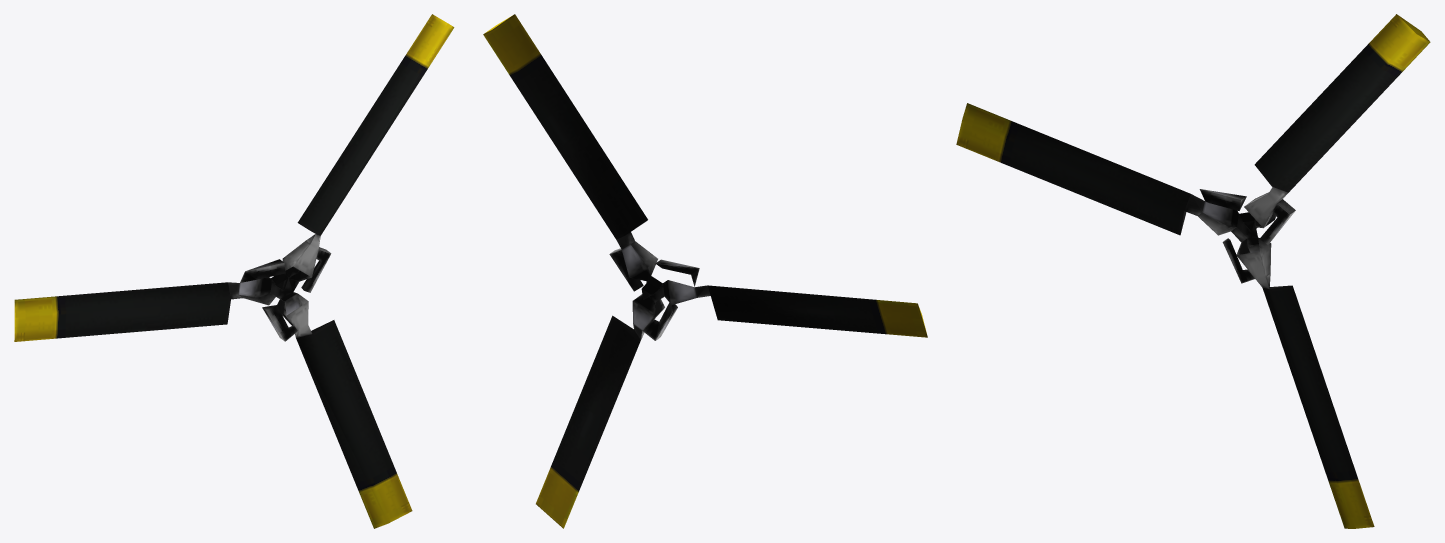
The model's file is backBlade3.obj.
3 views of the same model, side by side, from view 1: azimuth 30°, elevation 25°; view 2: azimuth 150°, elevation 25°; view 3: azimuth 330°, elevation 25° (orthographic). The views are drawn at different scales.
Parts seen in each view (by area): view 1: Null_glass.005_Body; view 2: Null_glass.005_Body; view 3: Null_glass.005_Body.
Boxes of the visible parts, x1,y1,x2,y2 form: Null_glass.005_Body: [14, 14, 454, 528]; Null_glass.005_Body: [483, 14, 927, 528]; Null_glass.005_Body: [956, 14, 1430, 528].
Size of the model in its own units: 1.35 by 1.46 by 0.0838.
Materials: 1 (1 with a texture image).
